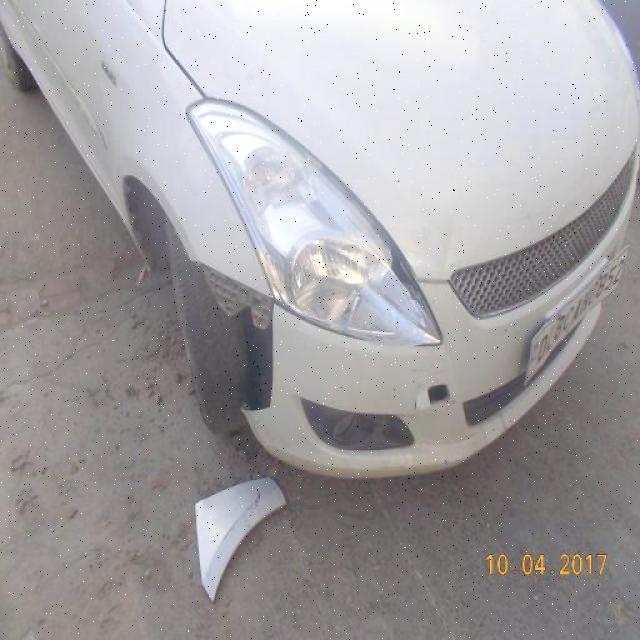car damage: (228, 98, 446, 349), (188, 263, 277, 414), (426, 381, 452, 412)
